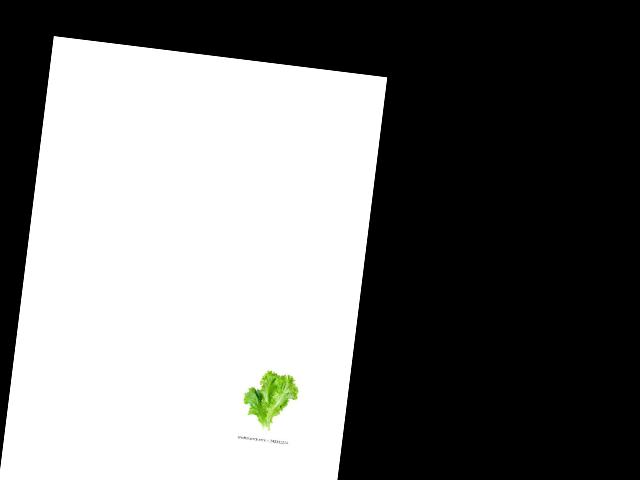lettuce: (238, 366, 300, 437)
